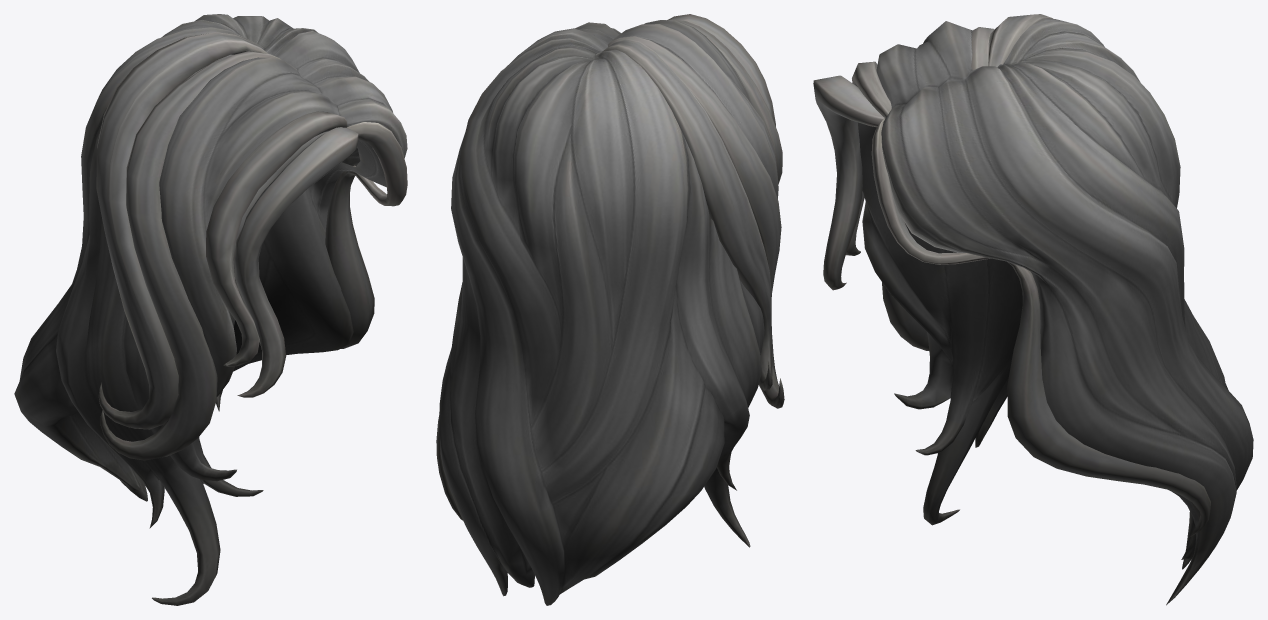
The picture shows the model from 3 angles, left to right: view 1: azimuth 30°, elevation 25°; view 2: azimuth 150°, elevation 25°; view 3: azimuth 270°, elevation 25°; orthographic projection. The views are drawn at different scales.
Parts seen in each view (by area): view 1: hair-60; view 2: hair-60; view 3: hair-60.
Boxes of the visible parts, left/top/right/bottom form: hair-60: left=14, top=14, right=407, bottom=605; hair-60: left=436, top=14, right=784, bottom=605; hair-60: left=813, top=14, right=1253, bottom=605.
Bounding box in the file's own units: 0.2317 × 0.3946 × 0.2851.
Materials: 1 (1 with a texture image).
